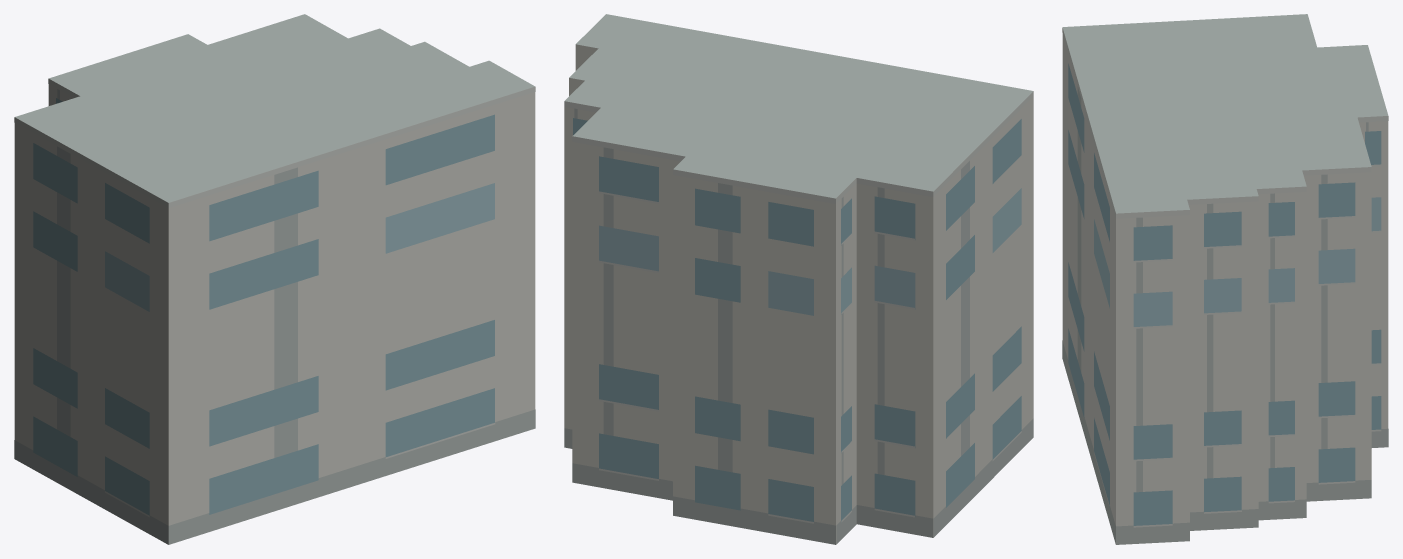
The model's file is survey-upis-32912089.glb.
3 views of the same model, side by side, from view 1: azimuth 30°, elevation 25°; view 2: azimuth 150°, elevation 25°; view 3: azimuth 270°, elevation 25° (orthographic). The views are drawn at different scales.
Visible parts, largest first — view 1: survey-upis-32912089.tmp; view 2: survey-upis-32912089.tmp; view 3: survey-upis-32912089.tmp.
Boxes of the visible parts, x1,y1,x2,y2 form: survey-upis-32912089.tmp: [14, 14, 535, 544]; survey-upis-32912089.tmp: [564, 14, 1033, 544]; survey-upis-32912089.tmp: [1062, 14, 1388, 544].
Size of the model in its own units: 19.71 by 15.25 by 13.61.
